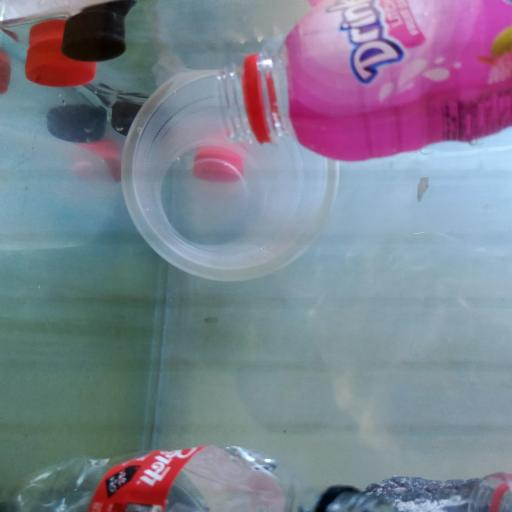bottle_cap: (25, 40, 97, 87), (64, 14, 124, 59)
plastic_bottle: (213, 0, 512, 162), (9, 444, 391, 512)
plastic_cup: (124, 66, 339, 284)
